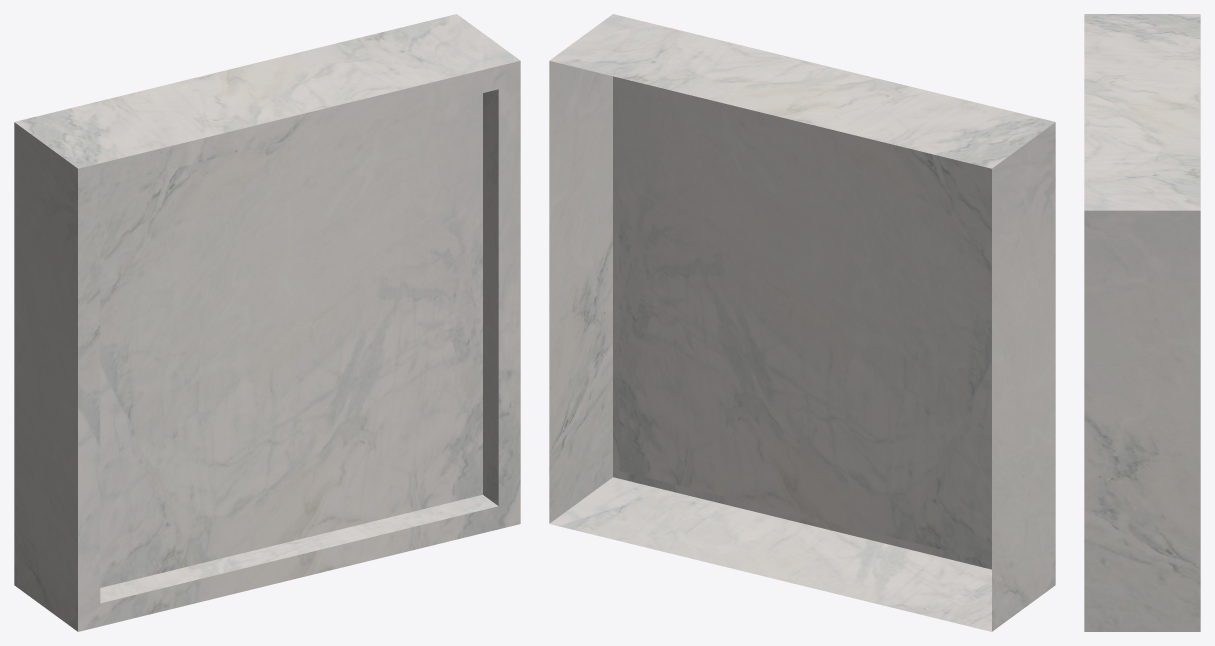
The model's file is wall_ver2.FBX.
The picture shows the model from 3 angles, left to right: view 1: azimuth 30°, elevation 25°; view 2: azimuth 150°, elevation 25°; view 3: azimuth 270°, elevation 25°; orthographic projection. The views are drawn at different scales.
Parts seen in each view (by area): view 1: Box001; view 2: Box001; view 3: Box001.
Part boxes in pixels (x1,y1,x2,y2): Box001: (14,14,520,631); Box001: (549,14,1055,631); Box001: (1084,14,1200,631).
Bounding box in the file's own units: 40 × 40 × 10.
